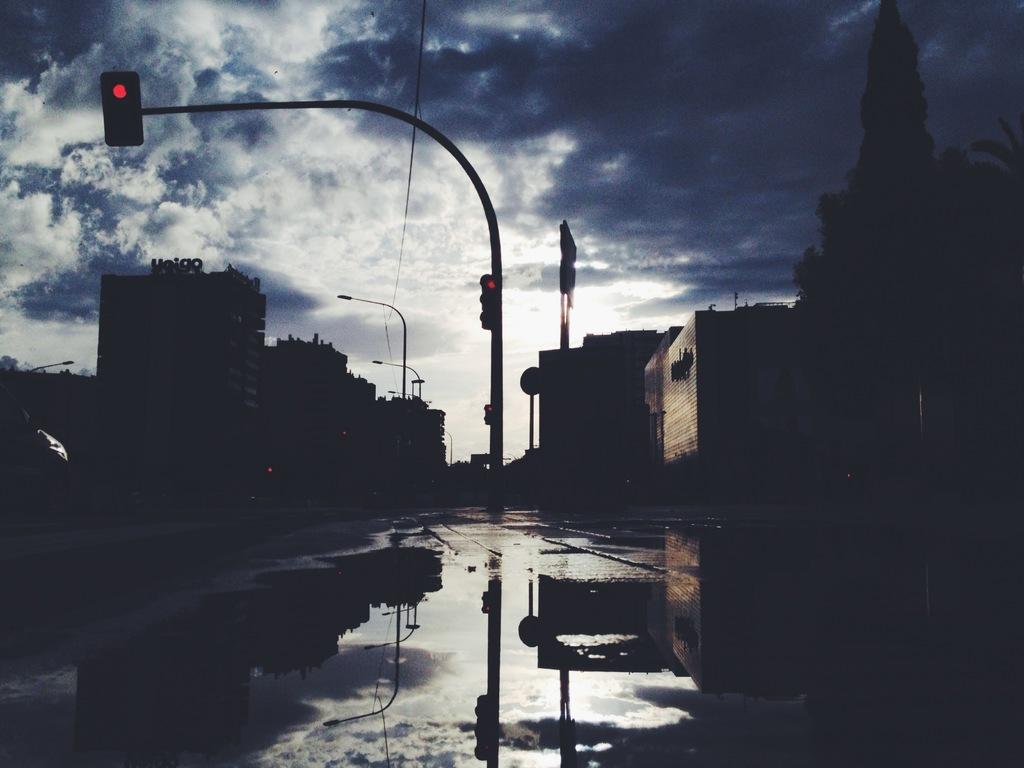red_light: (102, 72, 147, 147), (480, 273, 503, 331)
